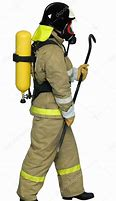crowbar: (54, 32, 97, 157)
